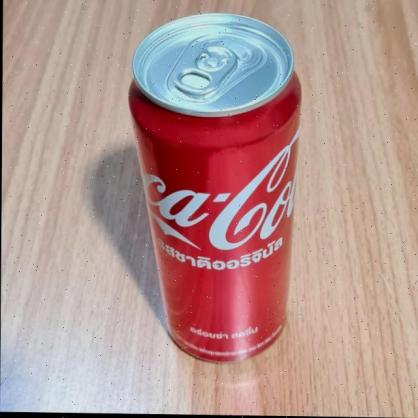can: (126, 13, 302, 365)
